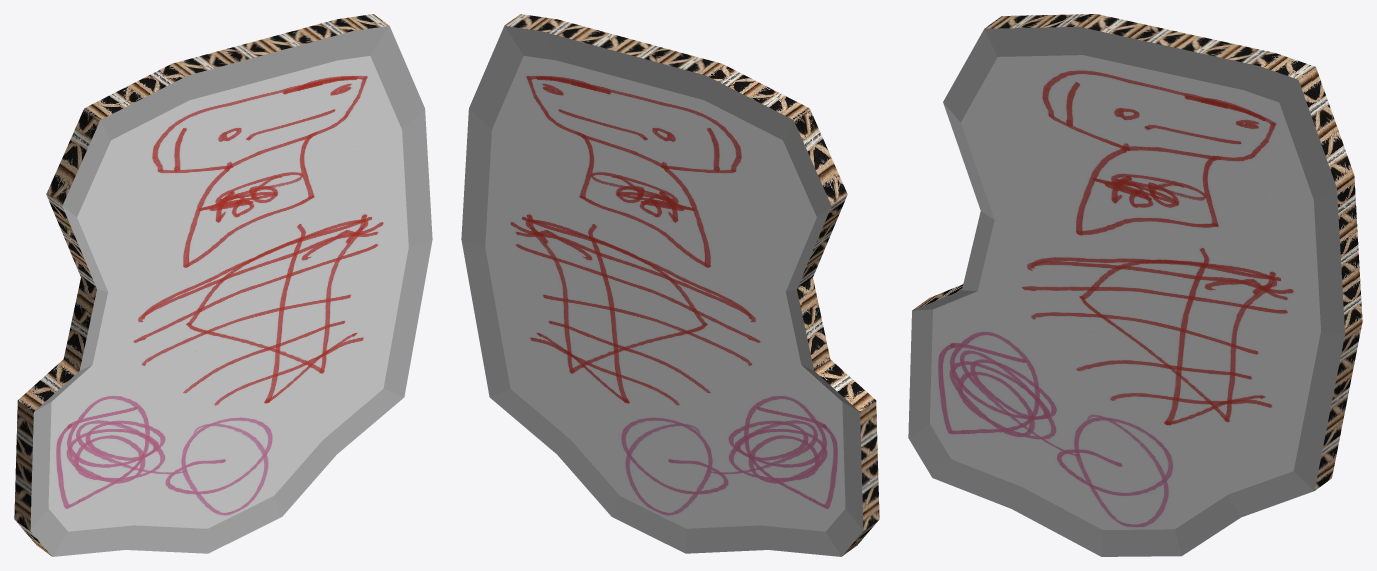
The picture shows the model from 3 angles, left to right: view 1: azimuth 30°, elevation 25°; view 2: azimuth 150°, elevation 25°; view 3: azimuth 330°, elevation 25°; orthographic projection. The views are drawn at different scales.
Parts seen in each view (by area): view 1: ET; view 2: ET; view 3: ET.
Part boxes in pixels (x1,y1,x2,y2): ET: [14, 14, 432, 556]; ET: [461, 14, 879, 556]; ET: [908, 14, 1362, 556].
Bounding box in the file's own units: 187 × 216 × 12.94.
